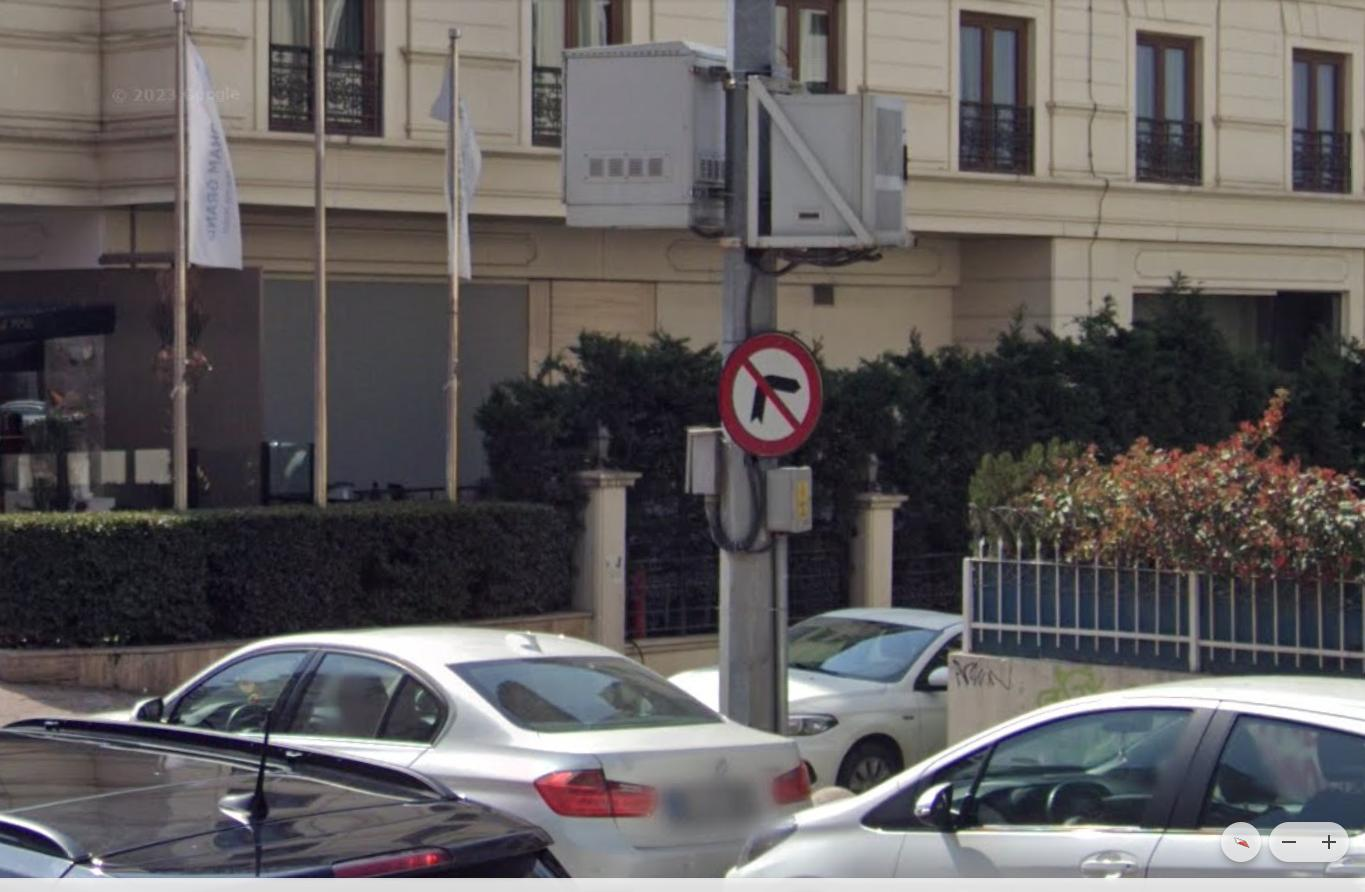rightturnsareforbidden: (709, 334, 819, 454)
